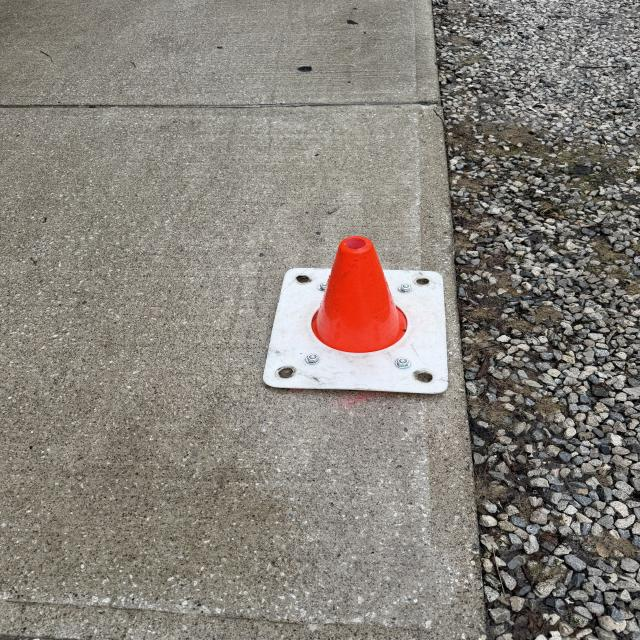Traffic Cone: (263, 235, 448, 398)
